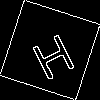H: (25, 25, 78, 82)
